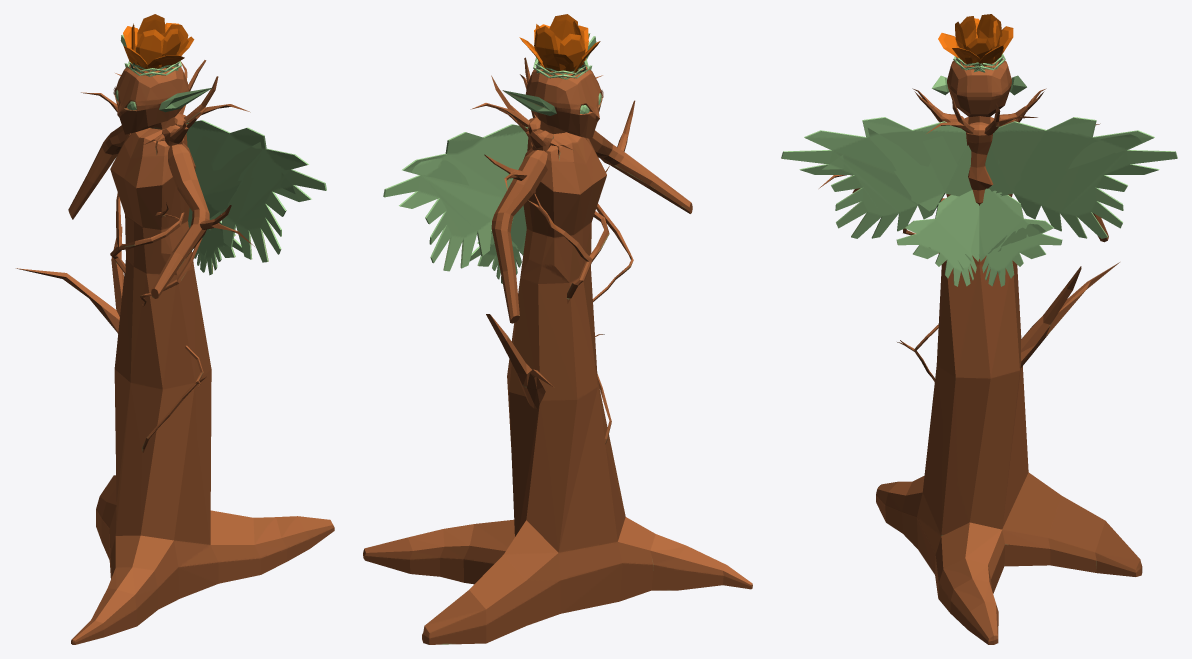
The model's file is SPIRITOFFOREST_BASE_proto.obj.
The picture shows the model from 3 angles, left to right: view 1: azimuth 30°, elevation 25°; view 2: azimuth 150°, elevation 25°; view 3: azimuth 270°, elevation 25°; orthographic projection. The views are drawn at different scales.
Parts seen in each view (by area): view 1: Cube; view 2: Cube; view 3: Cube.
Boxes of the visible parts, x1,y1,x2,y2 form: Cube: (16,14,334,644); Cube: (363,14,752,644); Cube: (781,14,1177,644).
Bounding box in the file's own units: 4.59 × 7.73 × 5.12.
Materials: 1 (1 with a texture image).
